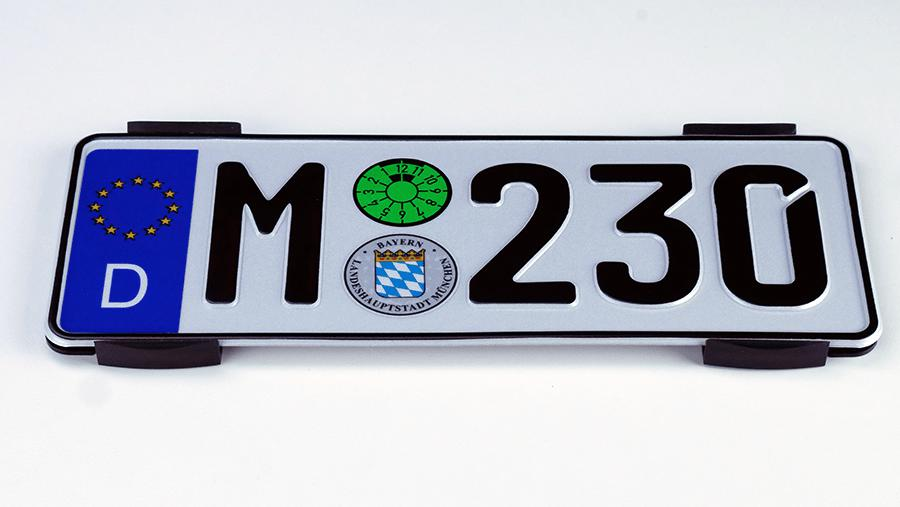0: (709, 158, 834, 311)
2: (464, 157, 585, 310)
3: (587, 161, 705, 309)
M: (203, 156, 332, 309)
